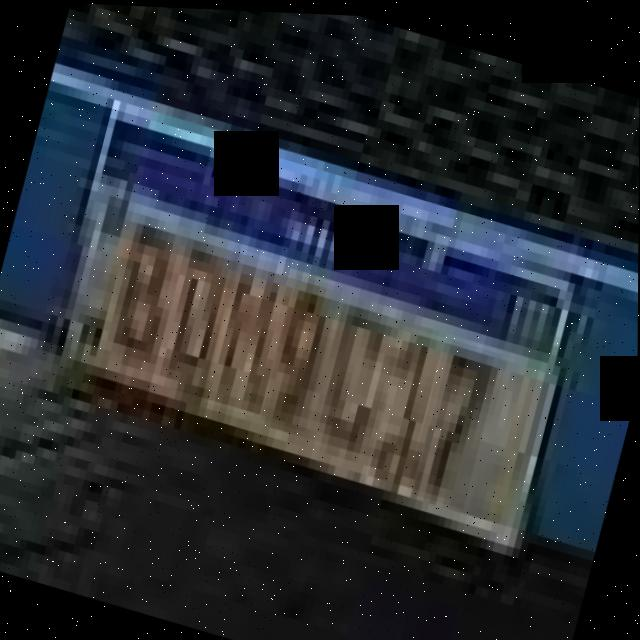1: (363, 320, 446, 492)
7: (412, 334, 503, 506)
9: (261, 270, 343, 430)
B: (100, 207, 192, 367)
C: (310, 287, 402, 457)
D: (152, 225, 239, 394)
M: (204, 245, 293, 415)
